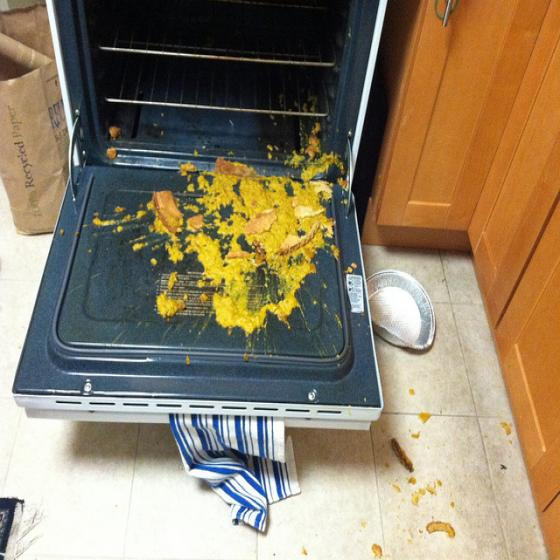oven: (15, 2, 390, 435)
